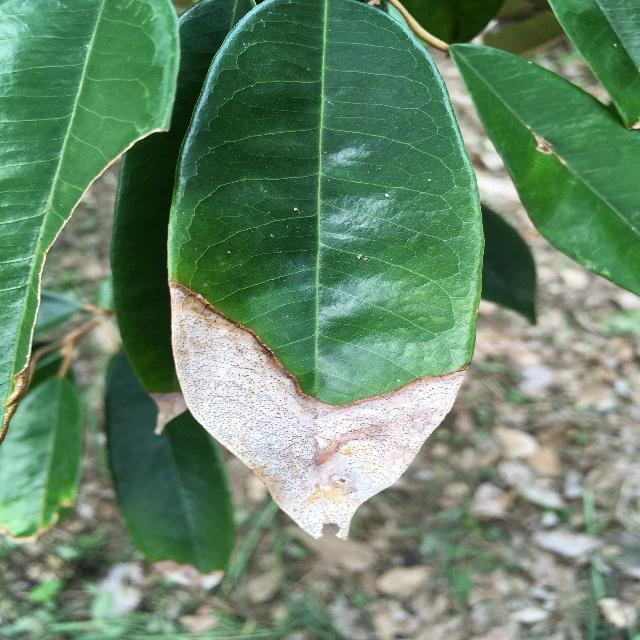Leaf Blight: (161, 0, 493, 556)
